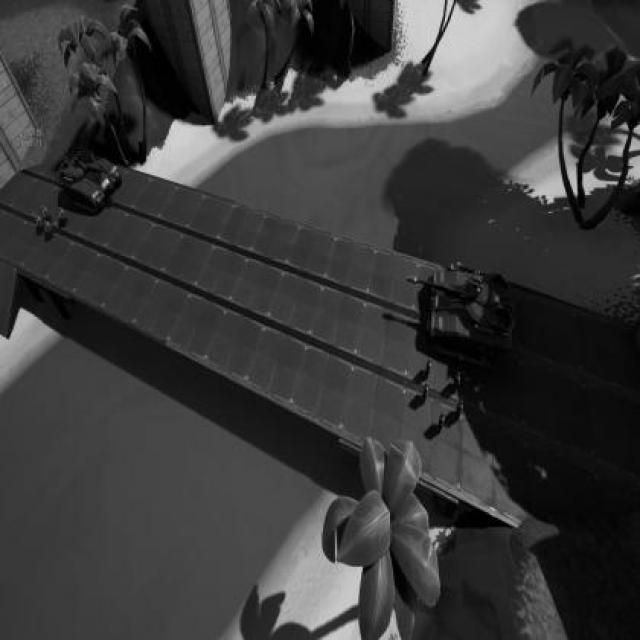tank: (406, 274, 514, 366), (57, 145, 123, 212)
